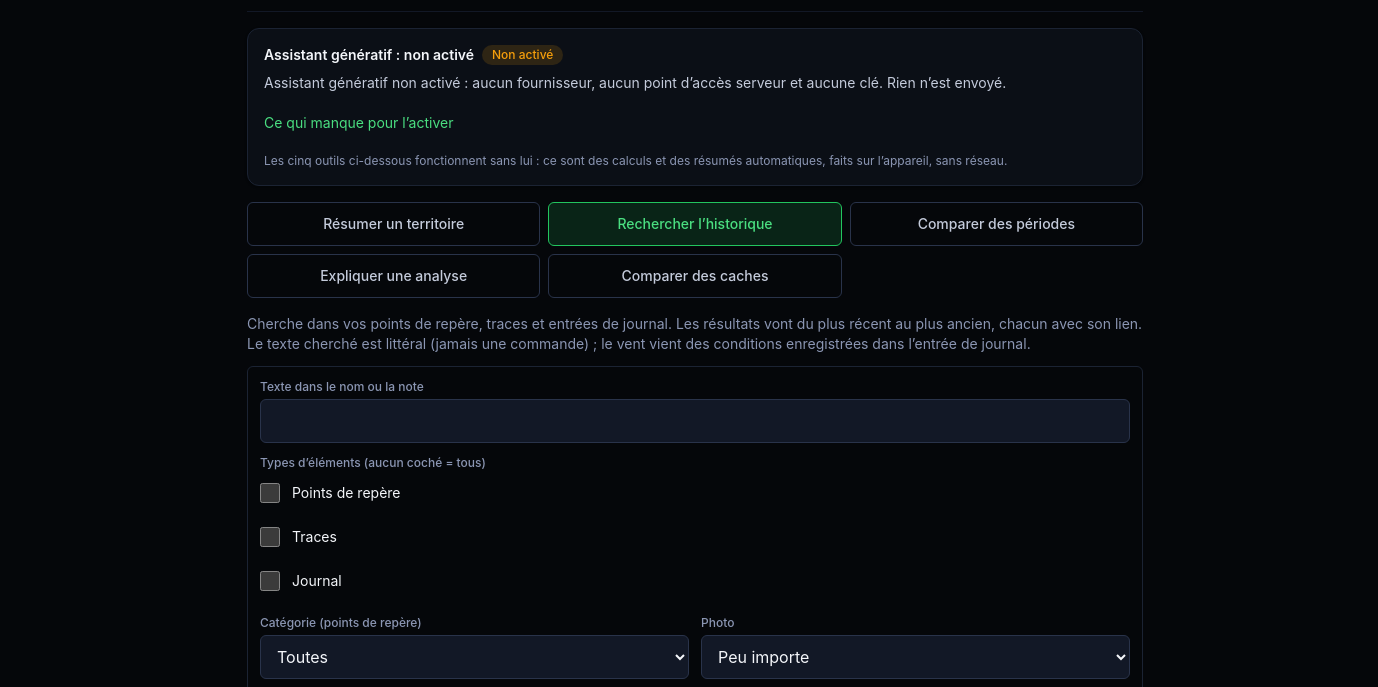
AssistantPage — recherche dans l’historique › filtre par catégorie avec le vocabulaire de l’application
Select "Indice de gibier" in the dropdown labelled "Catégorie (points de repère)": (474, 657) x1=260 y1=635 x2=689 y2=679
(page scrolled)
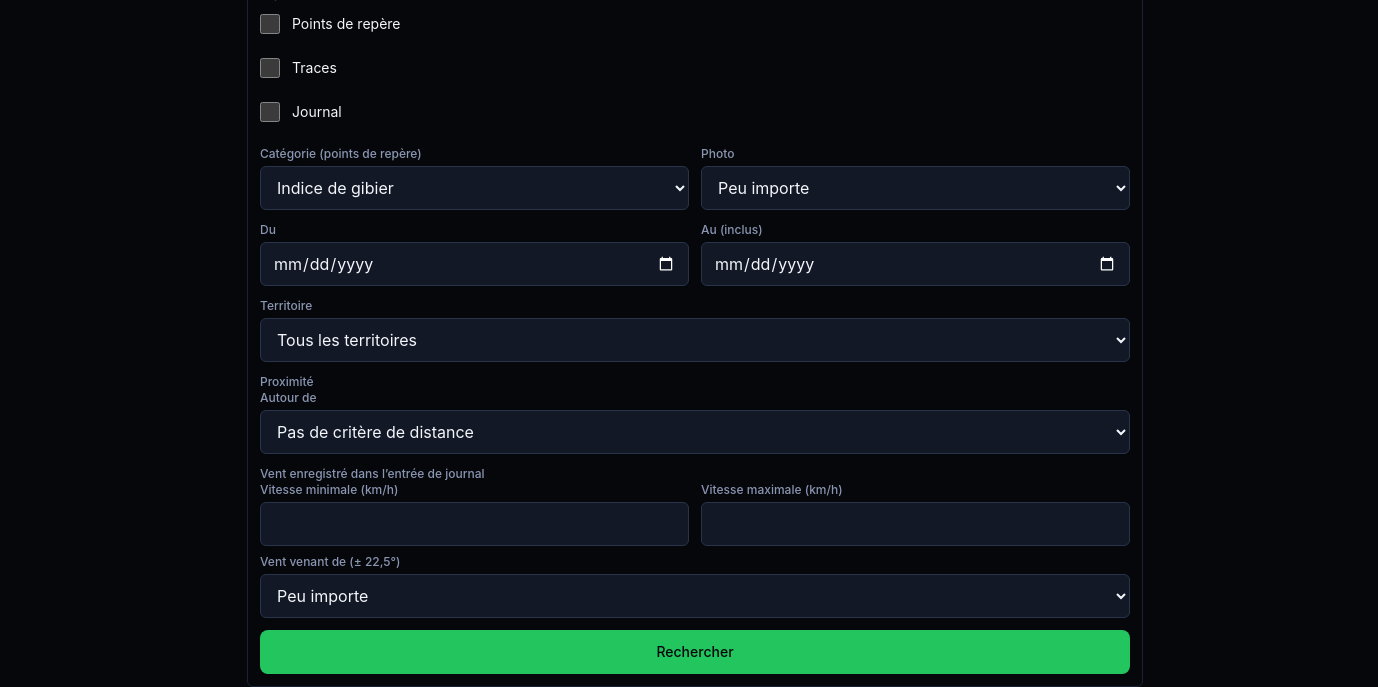
Click the button "Rechercher": (695, 652) x1=260 y1=630 x2=1130 y2=674
(page scrolled)
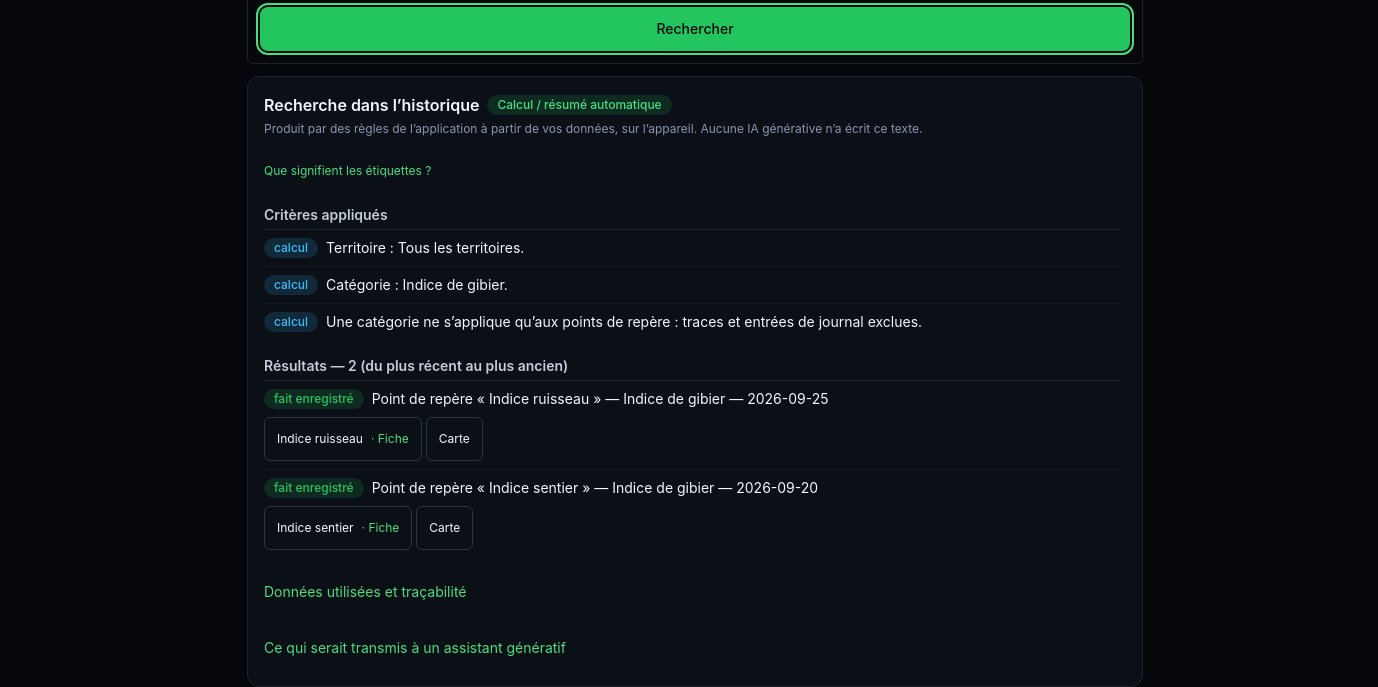
Expected: the heading "Résultats — 2 (du plus récent au plus ancien)" is shown, x1=264 y1=356 x2=1122 y2=381
